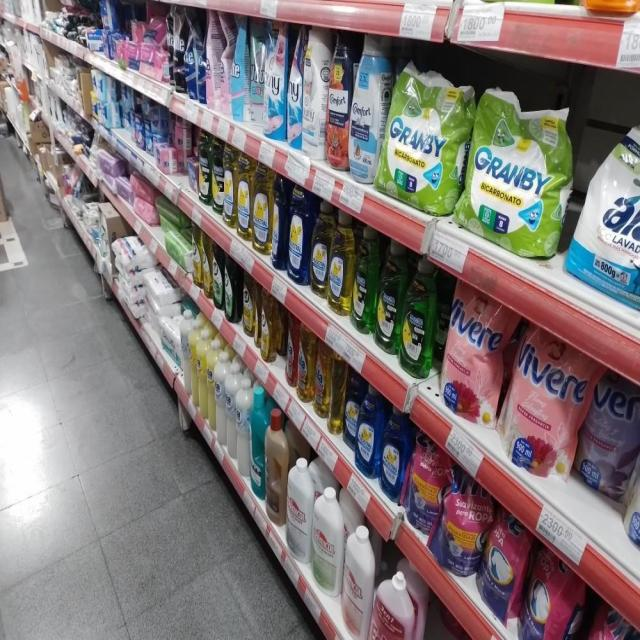ala_conc_amarillo: (297, 322, 314, 402), (315, 340, 331, 420), (331, 353, 344, 436)
ala_conc_rojo: (286, 312, 296, 389)
ala_crem_blanco: (226, 357, 236, 461)
magistral_con_amarillo: (328, 209, 352, 316), (310, 200, 328, 300), (253, 160, 271, 258), (237, 151, 252, 242), (224, 143, 236, 229)
magistral_con_azul: (381, 405, 408, 503), (357, 381, 380, 479), (288, 185, 310, 287), (272, 172, 286, 272)
